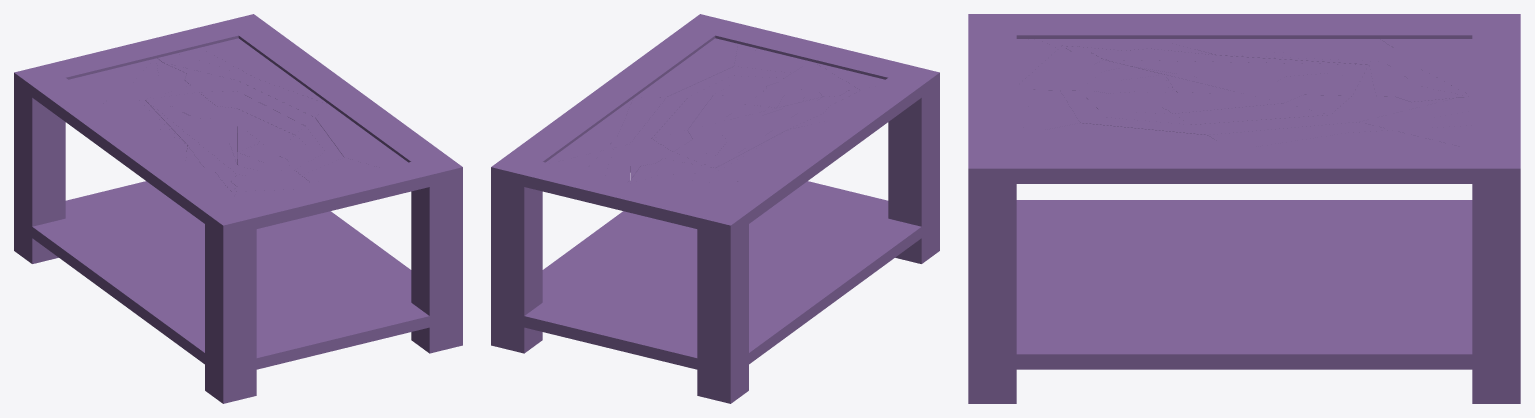
Rendered from mesa ratona rotaFIX.fbx.
3 renders of one model, left to right at view 1: azimuth 30°, elevation 25°; view 2: azimuth 150°, elevation 25°; view 3: azimuth 270°, elevation 25°, orthographic. The views are drawn at different scales.
Visible parts, largest first — view 1: mesaRatonaRota, polySurface13, polySurface26, polySurface43, polySurface65, polySurface60, polySurface36, polySurface47, polySurface3, polySurface62, polySurface32, polySurface73 (+21 smaller); view 2: mesaRatonaRota, polySurface13, polySurface26, polySurface43, polySurface60, polySurface36, polySurface3, polySurface47, polySurface73, polySurface62, polySurface32, polySurface65 (+21 smaller); view 3: mesaRatonaRota, polySurface26, polySurface43, polySurface13, polySurface60, polySurface65, polySurface3, polySurface47, polySurface36, polySurface73, polySurface62, polySurface25 (+30 smaller).
Boxes of the visible parts, box(x1,y1,x2,y2) form: mesaRatonaRota: box(14, 14, 462, 403); polySurface13: box(237, 38, 328, 104); polySurface26: box(145, 99, 237, 174); polySurface43: box(145, 100, 236, 189); polySurface65: box(75, 59, 153, 91); polySurface60: box(237, 91, 304, 134); polySurface36: box(301, 157, 382, 182); polySurface47: box(135, 58, 190, 99); polySurface3: box(315, 113, 383, 168); polySurface62: box(237, 80, 314, 125); polySurface32: box(320, 105, 392, 151); polySurface73: box(109, 91, 184, 143); mesaRatonaRota: box(491, 14, 939, 403); polySurface13: box(546, 98, 633, 163); polySurface26: box(715, 97, 822, 167); polySurface43: box(716, 90, 855, 167); polySurface60: box(652, 95, 712, 138); polySurface36: box(734, 45, 802, 72); polySurface3: box(655, 45, 737, 97); polySurface47: box(627, 158, 714, 183); polySurface73: box(712, 132, 784, 182); polySurface62: box(630, 96, 688, 143); polySurface32: box(634, 52, 697, 97); polySurface65: box(636, 180, 712, 201); mesaRatonaRota: box(968, 14, 1520, 403); polySurface26: box(1104, 59, 1367, 77); polySurface43: box(1066, 46, 1364, 64); polySurface13: box(1256, 130, 1460, 146); polySurface60: box(1173, 103, 1329, 124); polySurface65: box(1409, 45, 1472, 95); polySurface3: box(1022, 123, 1215, 140); polySurface47: box(1369, 61, 1472, 102); polySurface36: box(1021, 90, 1079, 134); polySurface73: box(1225, 45, 1407, 61); polySurface62: box(1191, 115, 1358, 134); polySurface25: box(1200, 39, 1393, 52).
Size of the model in its own units: 0.8587 by 0.6103 by 1.3.
